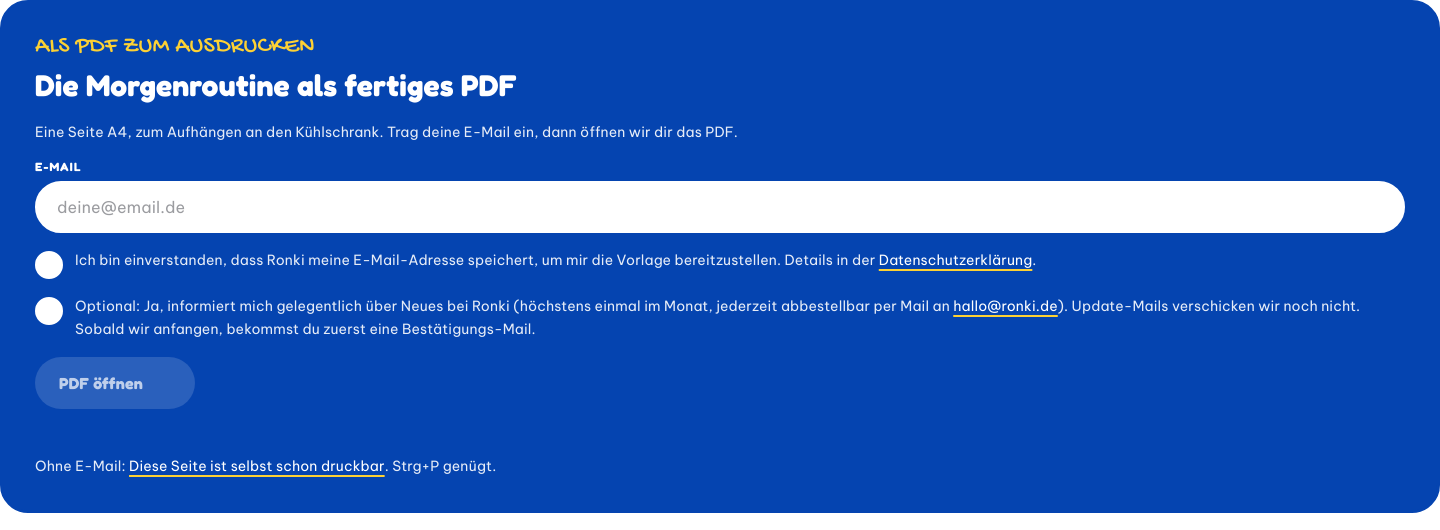
Test: VorlageDownload › greets a known parent without making it feel like an error
The image size is (1440, 530).
Type "marc@example.com" into the field labelled "E-Mail" at (720,207), box [35,181,1405,233]
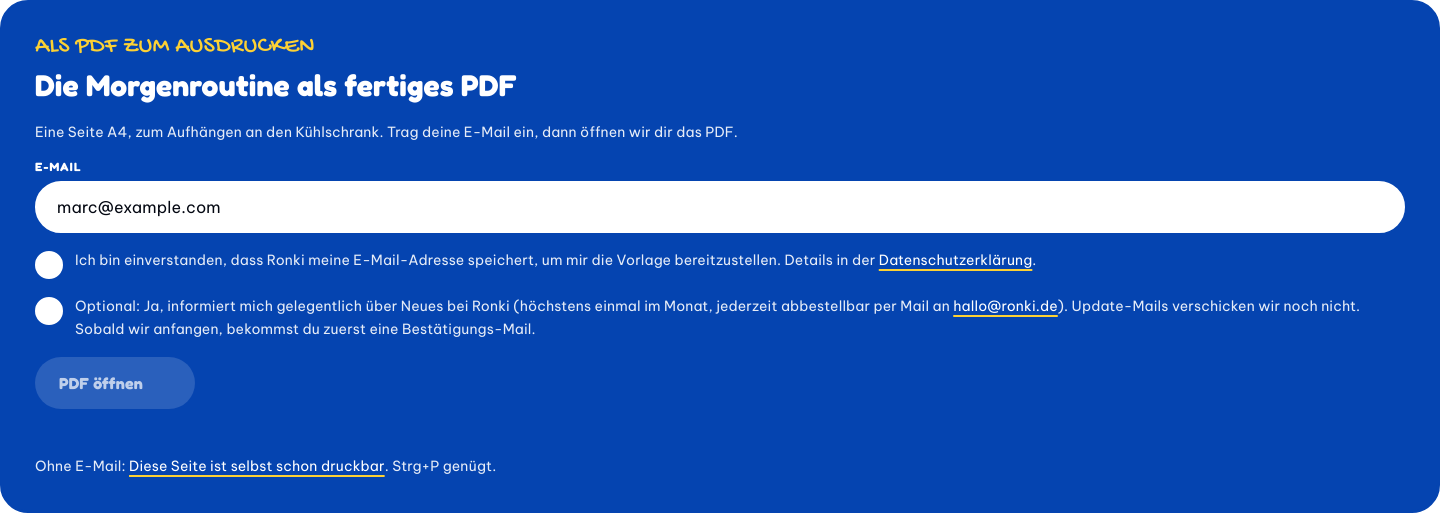
Click the 1st checkbox at (49,265), box [35,251,63,279]
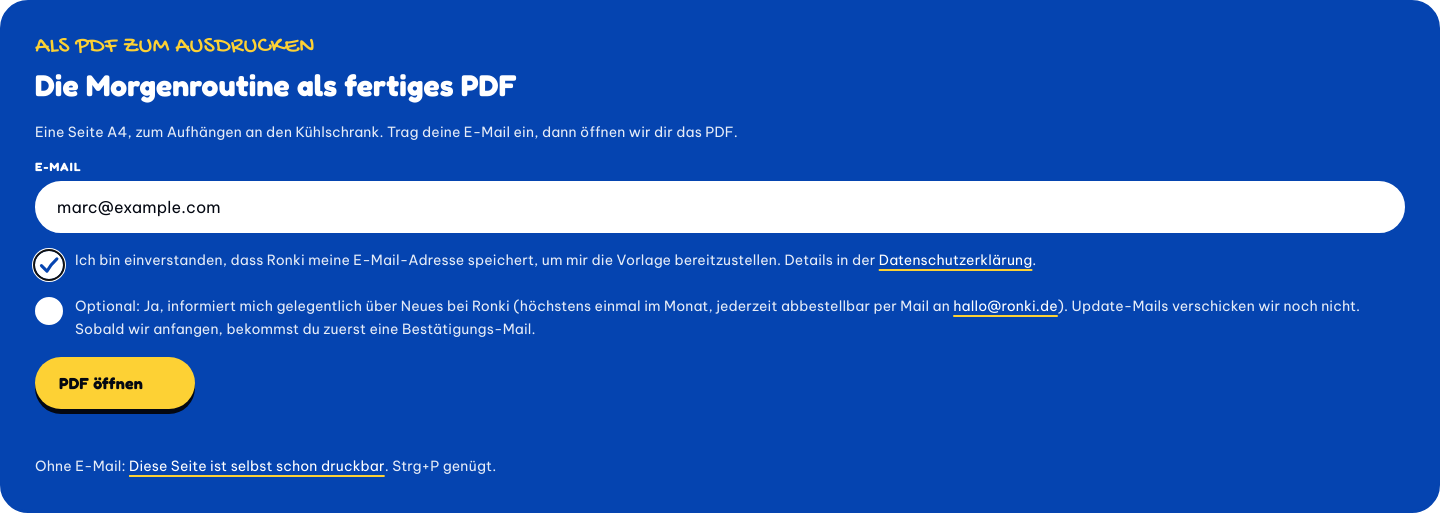
Click the button "PDF öffnen" at (115,383), box [35,357,195,409]
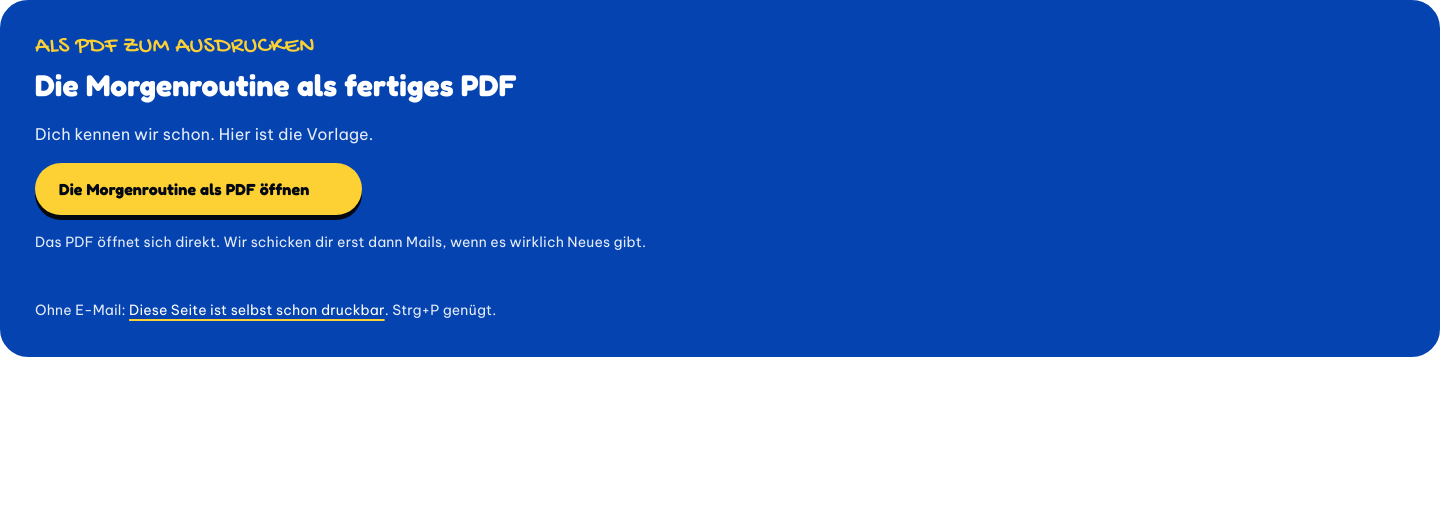
Result: the text "Dich kennen wir schon. Hier ist die Vorlage." is shown at [35,124,374,144]
Result: the link "Die Morgenroutine als PDF öffnen" is shown at [35,162,362,214]
